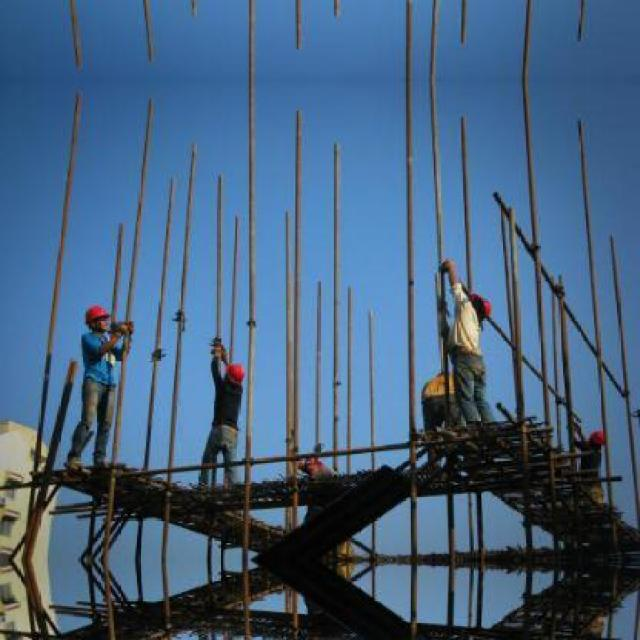hat: (471, 286, 497, 321), (228, 359, 253, 388), (80, 305, 113, 326), (297, 451, 328, 471), (593, 429, 610, 449)
